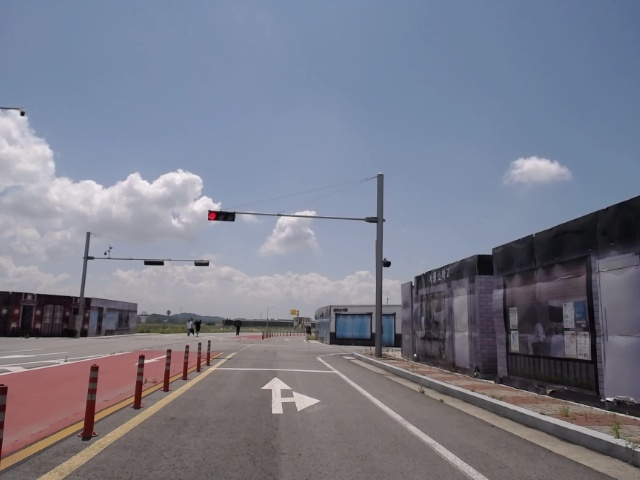red_3: (207, 210, 236, 222)
